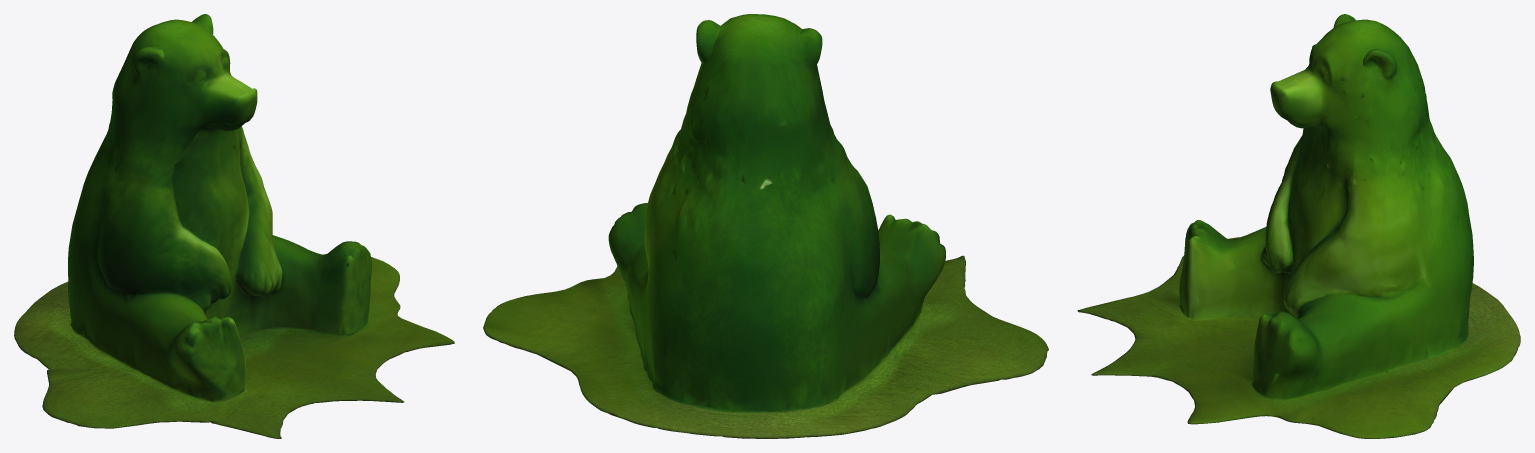
File: urso.glb
3 views of the same model, side by side, from view 1: azimuth 30°, elevation 25°; view 2: azimuth 150°, elevation 25°; view 3: azimuth 270°, elevation 25° (orthographic). The views are drawn at different scales.
Parts seen in each view (by area): view 1: Mesh_0; view 2: Mesh_0; view 3: Mesh_0.
Part boxes in pixels (x1,y1,x2,y2): Mesh_0: [14, 14, 454, 438]; Mesh_0: [483, 14, 1048, 438]; Mesh_0: [1077, 14, 1520, 438].
Bounding box in the file's own units: 1.91 × 1.35 × 1.78.
Materials: 1 (1 with a texture image).
